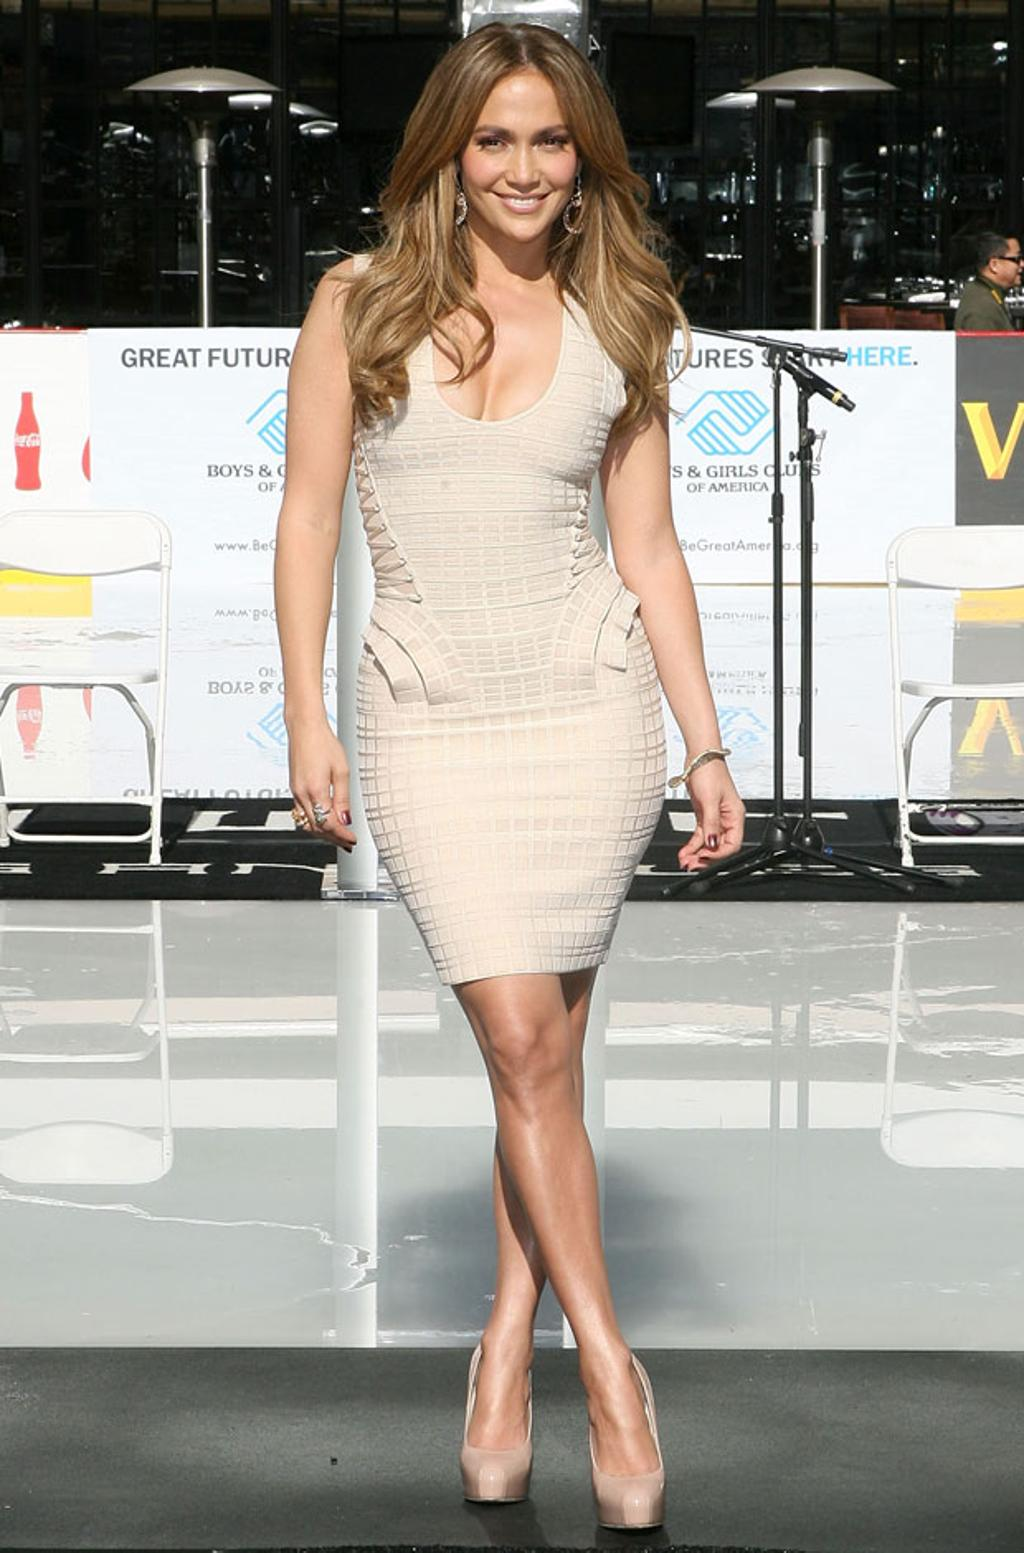face: (457, 73, 578, 240)
